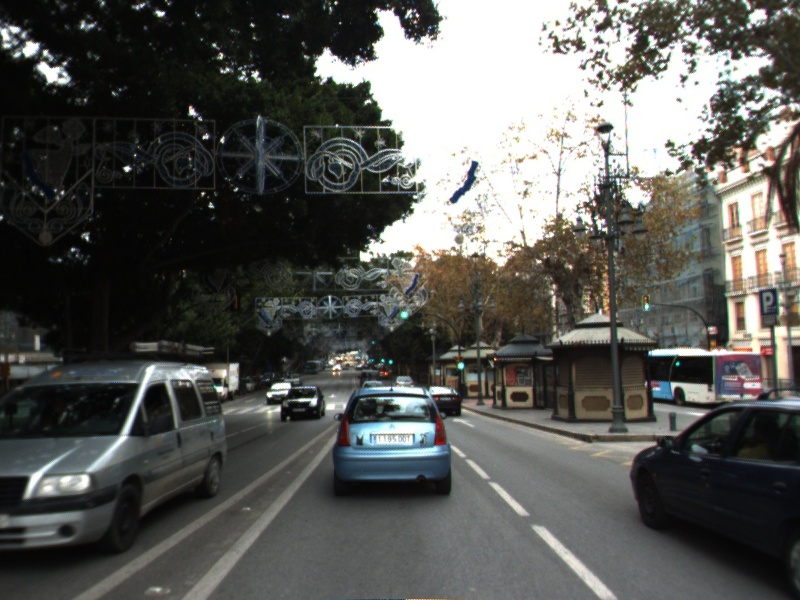STRAIGHT: (450, 416, 477, 429)
